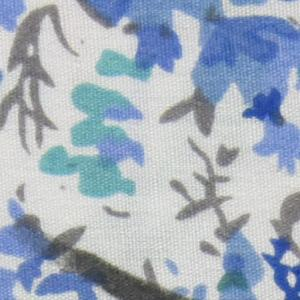Stain: (47, 235, 196, 300)
